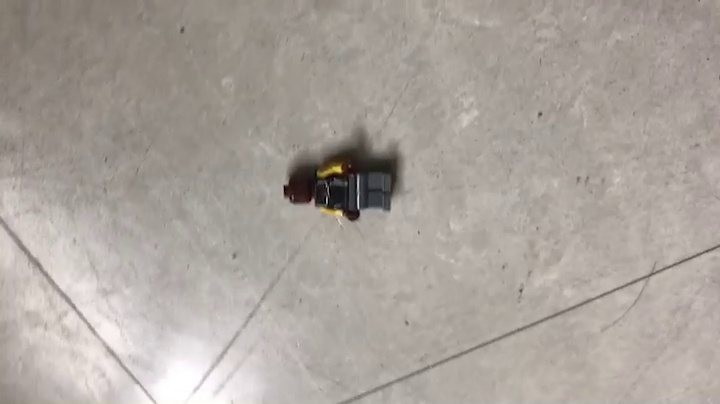people: (283, 158, 396, 223)
